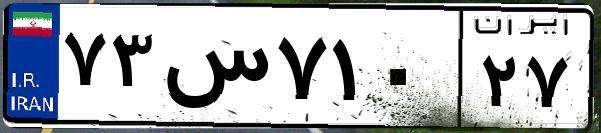0: (385, 28, 445, 110)
1: (330, 28, 385, 110)
2: (475, 38, 525, 113)
3: (110, 28, 158, 98)
7: (270, 28, 330, 110), (57, 26, 110, 100), (525, 38, 570, 115)
س: (158, 20, 270, 120)
